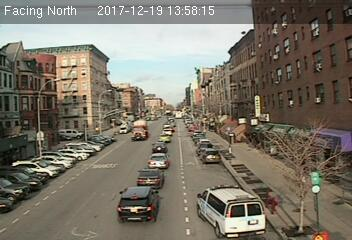car: (115, 187, 161, 224), (137, 167, 164, 188), (147, 152, 170, 169), (200, 149, 221, 164), (151, 141, 168, 152), (158, 133, 171, 143)
police: (196, 182, 270, 238)
truck: (131, 120, 146, 138)
